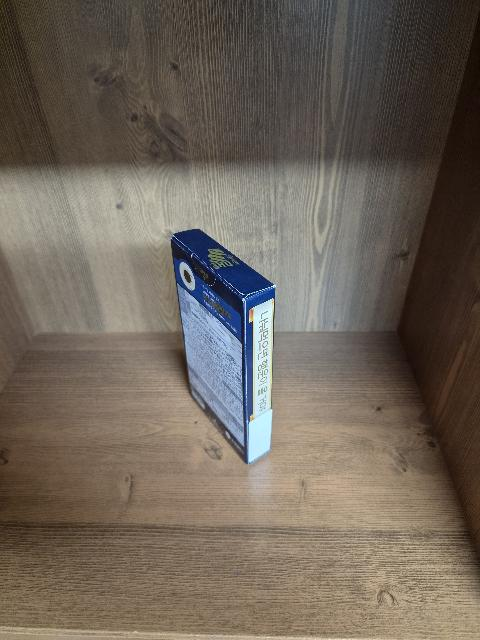pepero: (170, 228, 276, 464)
